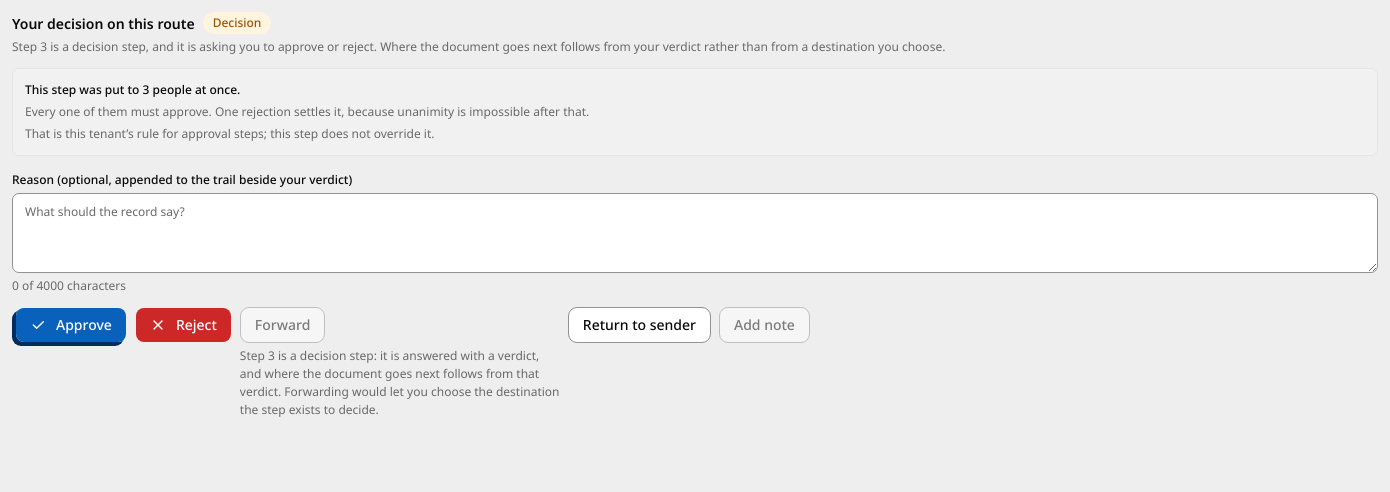
it: three approvers under a quorum of `all` › tells the FIRST approver their approval is recorded and the step is not
Click the button "Approve". click: (71, 325)
box: [15,307,127,343]
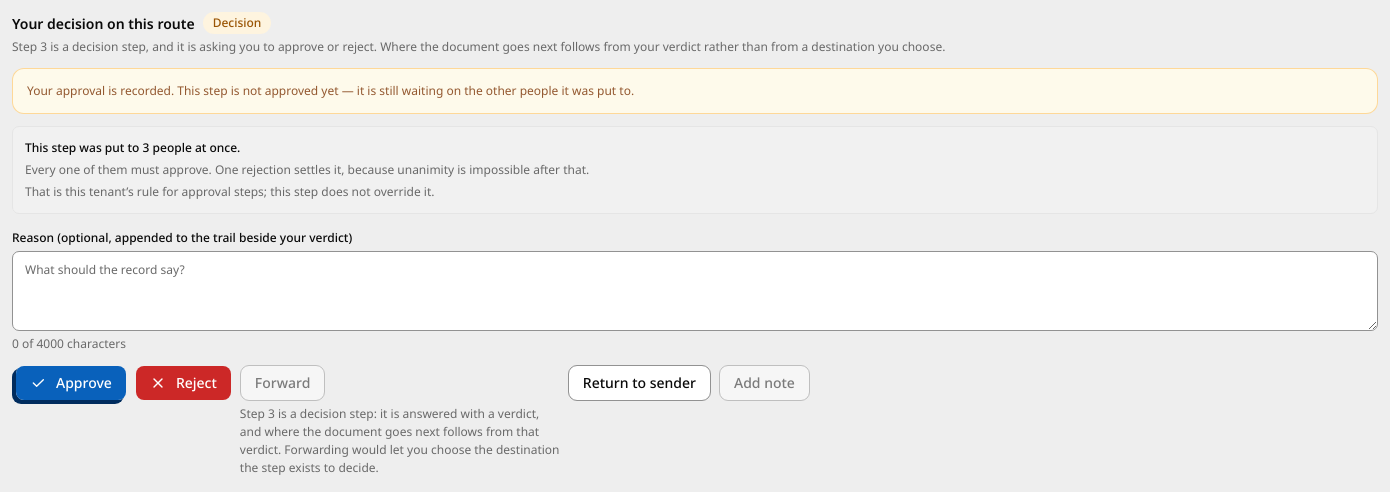
Expected: the message is shown, [12,68,1378,114]
Expected: the message shows "not approved yet", [27,82,634,99]
Expected: the message shows "still waiting on the other people", [27,82,634,99]
